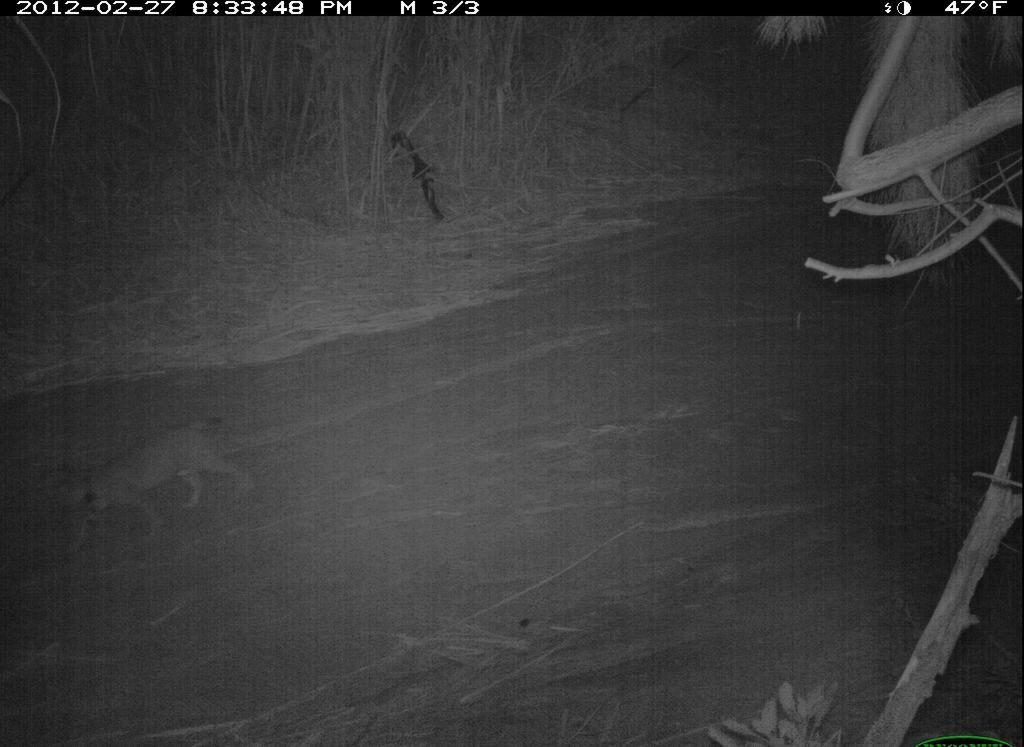bobcat: (54, 408, 259, 556)
